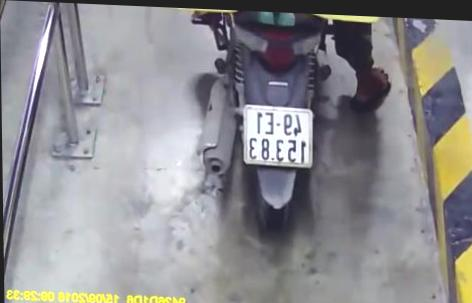License_Plate: (238, 100, 323, 178)
